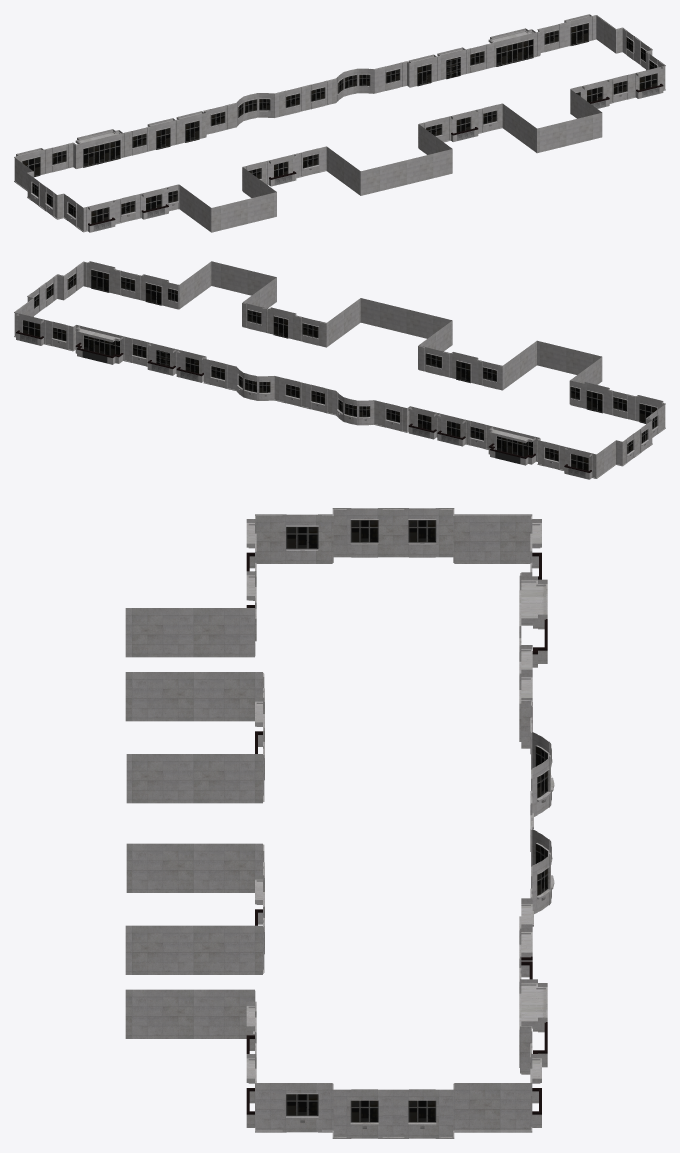
Rendered from BLD-1-Floor-Type-4.FBX.
The picture shows the model from 3 angles, top to bottom: view 1: azimuth 30°, elevation 25°; view 2: azimuth 150°, elevation 25°; view 3: azimuth 270°, elevation 25°; orthographic projection. The views are drawn at different scales.
Visible parts, largest first — view 1: Exterior-Type-01-015; view 2: Exterior-Type-01-015; view 3: Exterior-Type-01-015.
Part boxes in pixels (<box>): Exterior-Type-01-015: <box>14,14,665,232</box>; Exterior-Type-01-015: <box>14,261,665,479</box>; Exterior-Type-01-015: <box>125,508,554,1138</box>.
Bounding box in the file's own units: 60.27 × 2.38 × 18.73.
